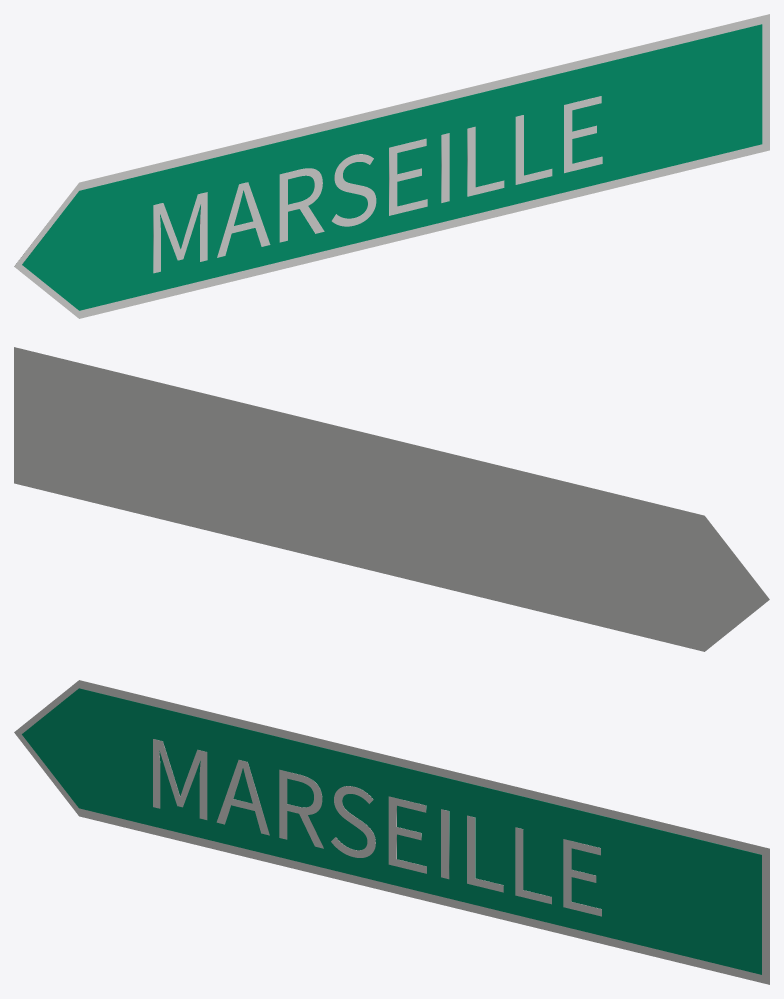
3 views of the same model, one above another, from view 1: azimuth 30°, elevation 25°; view 2: azimuth 150°, elevation 25°; view 3: azimuth 330°, elevation 25° (orthographic).
Visible parts, largest first — view 1: D29b_reg01, D29b_lis00, D29b_txt02; view 2: D29b_lis00; view 3: D29b_reg01, D29b_lis00, D29b_txt02.
Boxes of the visible parts, x1,y1,x2,y2 form: D29b_reg01: (22,24,762,310); D29b_lis00: (14,14,769,318); D29b_txt02: (153,96,602,273); D29b_lis00: (14,347,769,651); D29b_reg01: (22,688,761,974); D29b_lis00: (14,680,769,984); D29b_txt02: (153,739,601,916).
Size of the model in its own units: 1.45 by 0.25 by 0.0012.
